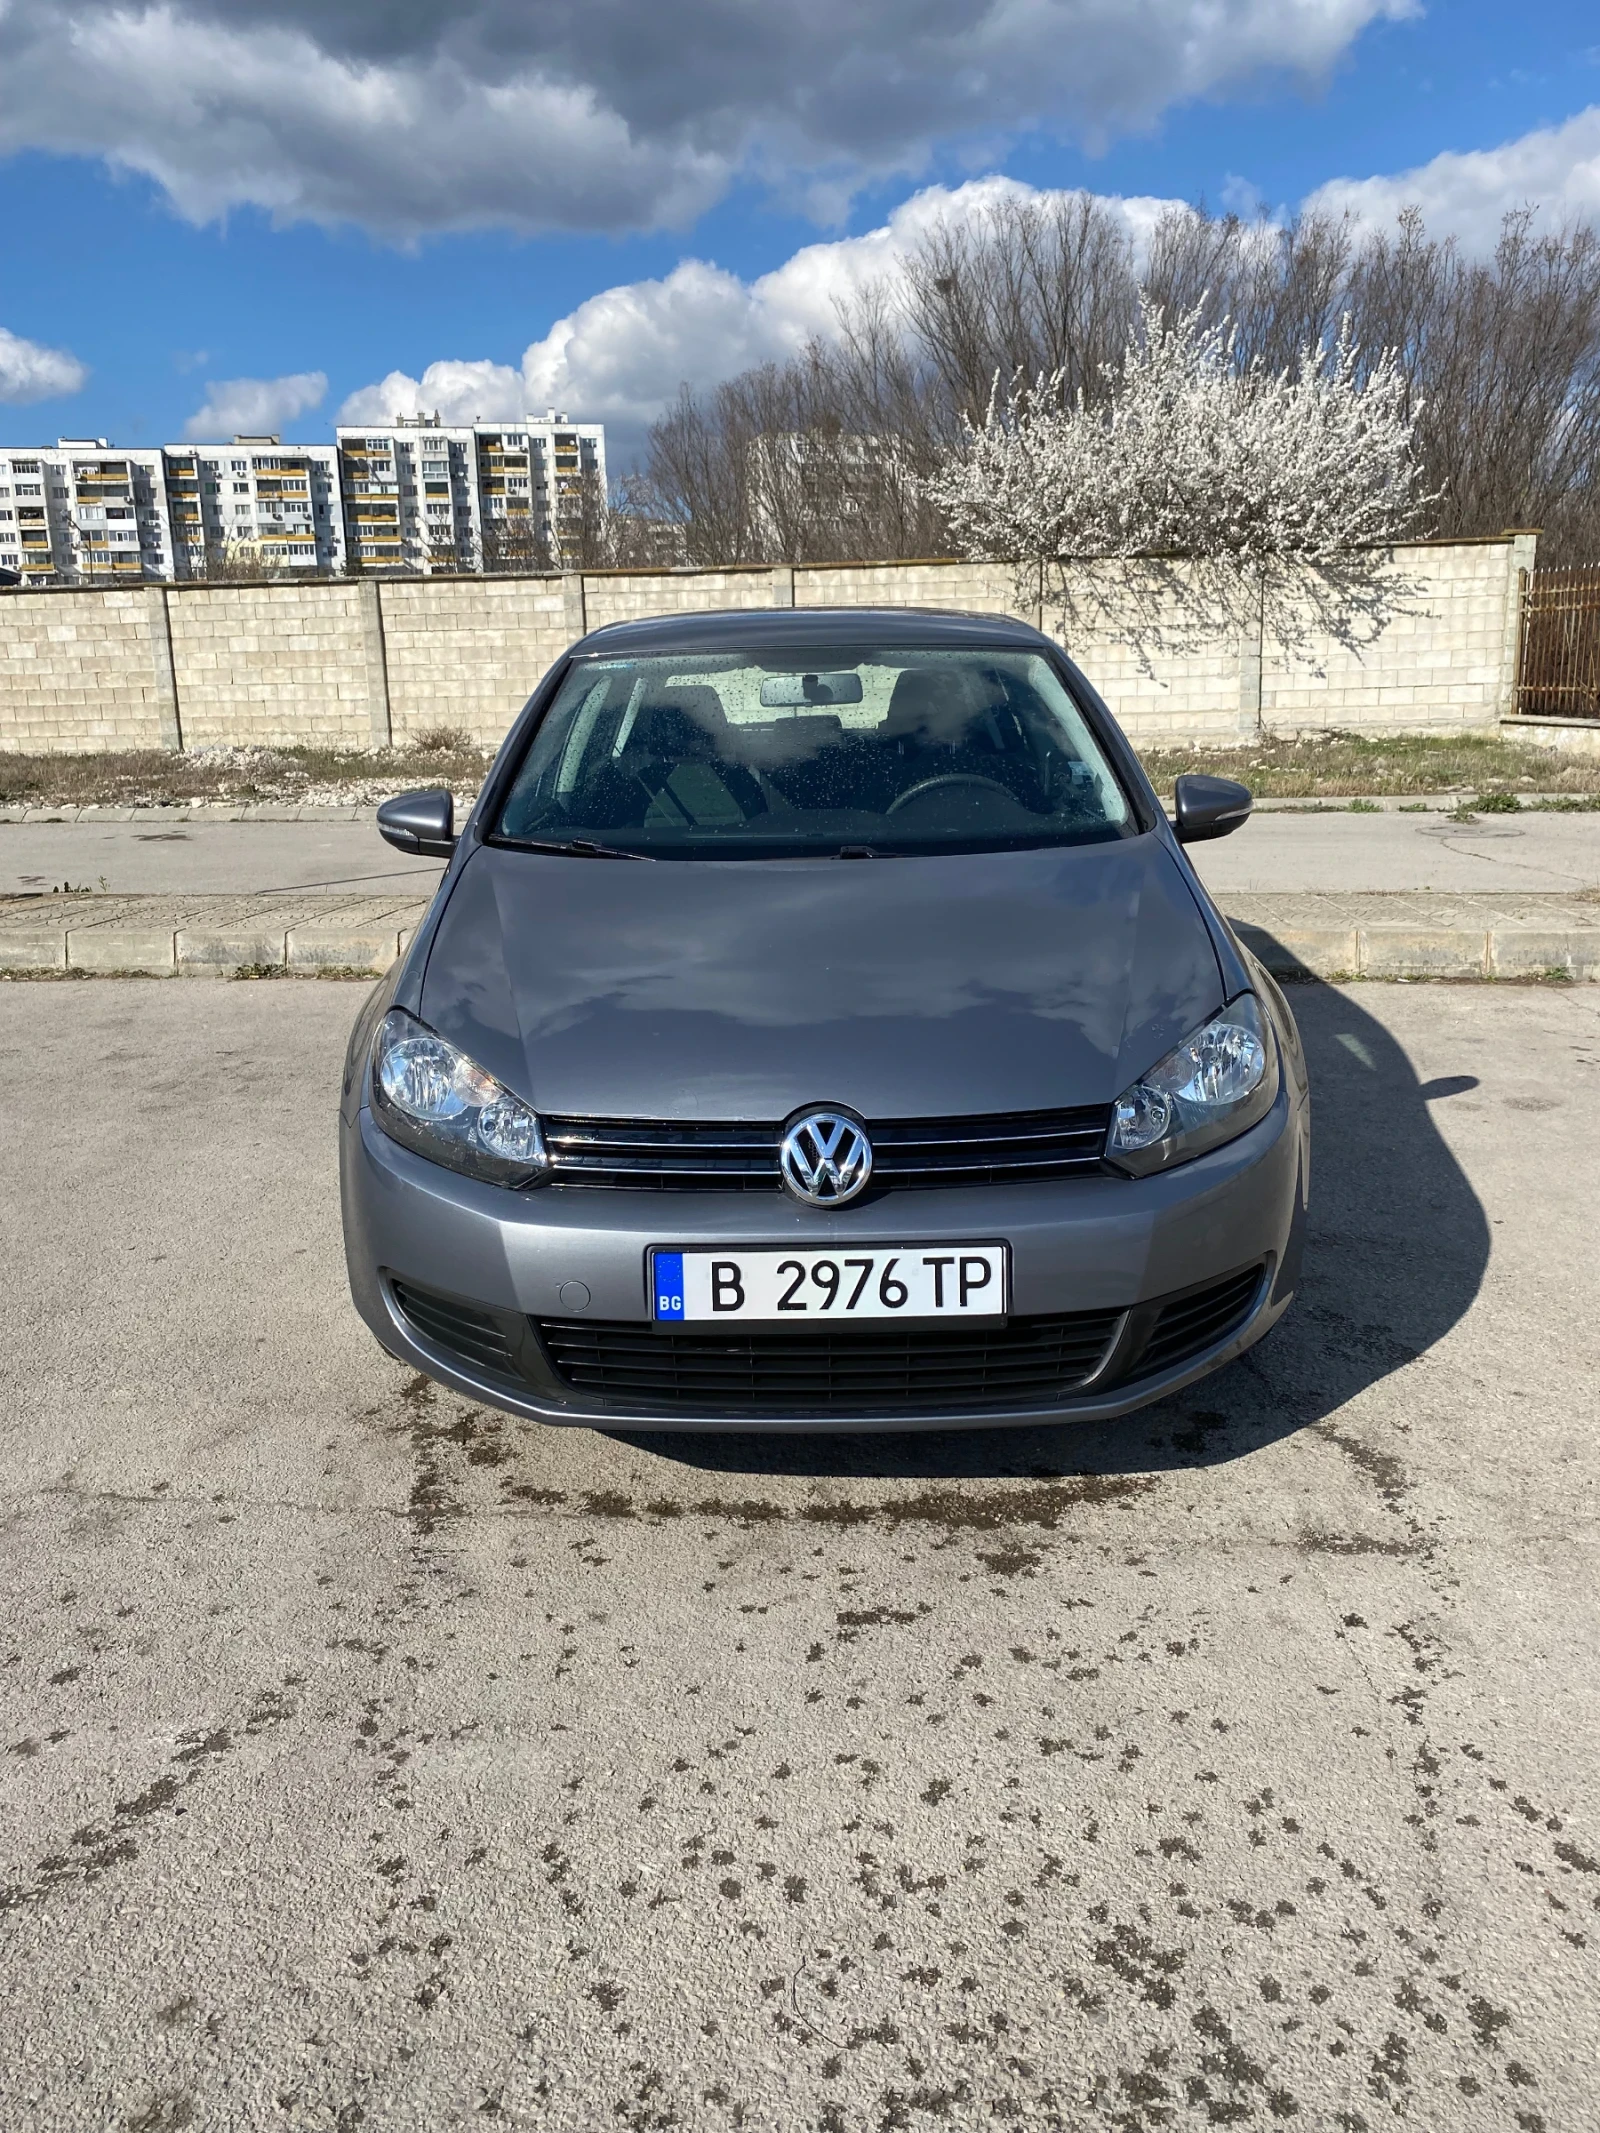registration_plate: (657, 1239, 1006, 1328)
